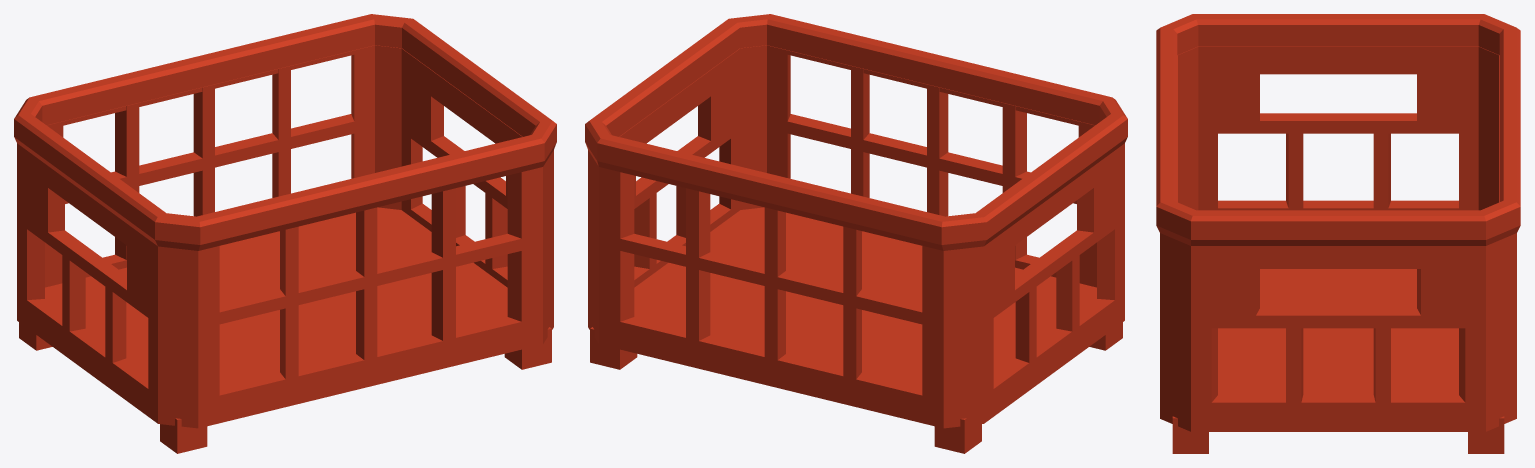
File: SM_Clutter_BottleCrate_01.glb
3 renders of one model, left to right at view 1: azimuth 30°, elevation 25°; view 2: azimuth 150°, elevation 25°; view 3: azimuth 270°, elevation 25°, orthographic. The views are drawn at different scales.
Parts seen in each view (by area): view 1: SM_Clutter_BottleCrate_01; view 2: SM_Clutter_BottleCrate_01; view 3: SM_Clutter_BottleCrate_01.
Part boxes in pixels (x1,y1,x2,y2): SM_Clutter_BottleCrate_01: (14,14,556,453); SM_Clutter_BottleCrate_01: (585,14,1127,453); SM_Clutter_BottleCrate_01: (1156,14,1520,453).
Bounding box in the file's own units: 0.4704 × 0.26 × 0.3528.
Materials: 1 (1 with a texture image).
